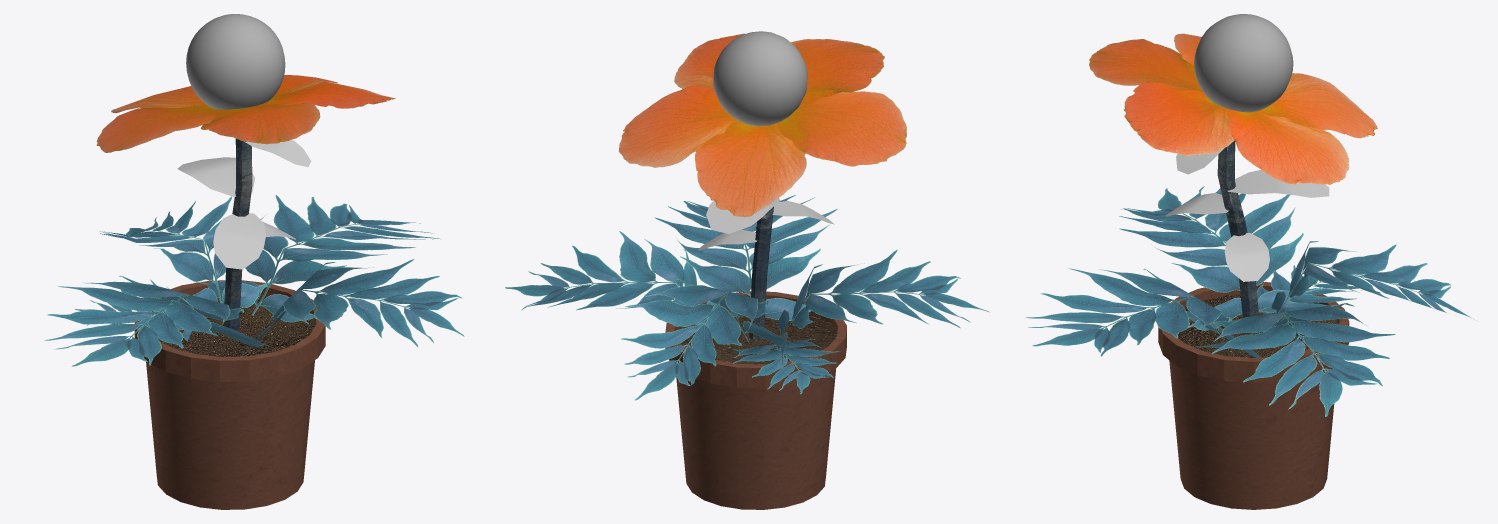
The model's file is tolflowa.fbx.
3 views of the same model, side by side, from view 1: azimuth 30°, elevation 25°; view 2: azimuth 150°, elevation 25°; view 3: azimuth 270°, elevation 25° (orthographic). The views are drawn at different scales.
Visible parts, largest first — view 1: pCylinder8, pPlane64, pPlane57, pPlane74, pSphere4, pPlane73, pPlane58, pPlane59, pCylinder7, pPlane60, pPlane61, pPlane62; view 2: pPlane64, pCylinder8, pPlane58, pPlane57, pSphere4, pPlane74, pPlane73, pPlane62, pCylinder7, pPlane60, pPlane59, pPlane63; view 3: pCylinder8, pPlane64, pPlane74, pPlane57, pPlane73, pSphere4, pPlane58, pCylinder7, pPlane63, pPlane62, pPlane60, pPlane59 (+1 smaller).
Part boxes in pixels (box(x1,y1,x2,y2)): pCylinder8: box(134, 280, 325, 509); pPlane64: box(96, 75, 395, 152); pPlane57: box(44, 275, 277, 366); pPlane74: box(194, 195, 440, 322); pSphere4: box(186, 14, 285, 109); pPlane73: box(241, 259, 464, 356); pPlane58: box(99, 196, 269, 308); pPlane59: box(213, 213, 265, 269); pCylinder7: box(223, 138, 252, 331); pPlane60: box(177, 157, 255, 196); pPlane61: box(244, 139, 311, 167); pPlane62: box(75, 279, 191, 341); pPlane64: box(618, 33, 906, 216); pCylinder8: box(665, 291, 846, 509); pPlane58: box(620, 278, 796, 400); pPlane57: box(774, 249, 989, 364); pSphere4: box(713, 31, 807, 126); pPlane74: box(505, 231, 715, 332); pPlane73: box(654, 195, 837, 324); pPlane62: box(733, 338, 840, 394); pCylinder7: box(749, 206, 773, 340); pPlane60: box(706, 198, 780, 233); pPlane59: box(772, 200, 834, 224); pPlane63: box(697, 229, 756, 250); pCylinder8: box(1158, 282, 1349, 509); pPlane64: box(1089, 33, 1377, 184); pPlane74: box(1197, 303, 1395, 416); pPlane57: box(1119, 186, 1322, 330); pPlane73: box(1025, 268, 1261, 357); pSphere4: box(1194, 14, 1293, 112); pPlane58: box(1271, 241, 1477, 325); pCylinder7: box(1217, 140, 1258, 333); pPlane63: box(1224, 233, 1269, 281); pPlane62: box(1256, 265, 1362, 318); pPlane60: box(1227, 169, 1329, 197); pPlane59: box(1165, 192, 1228, 216).
Size of the model in its own units: 3.21 by 3.23 by 2.93.
